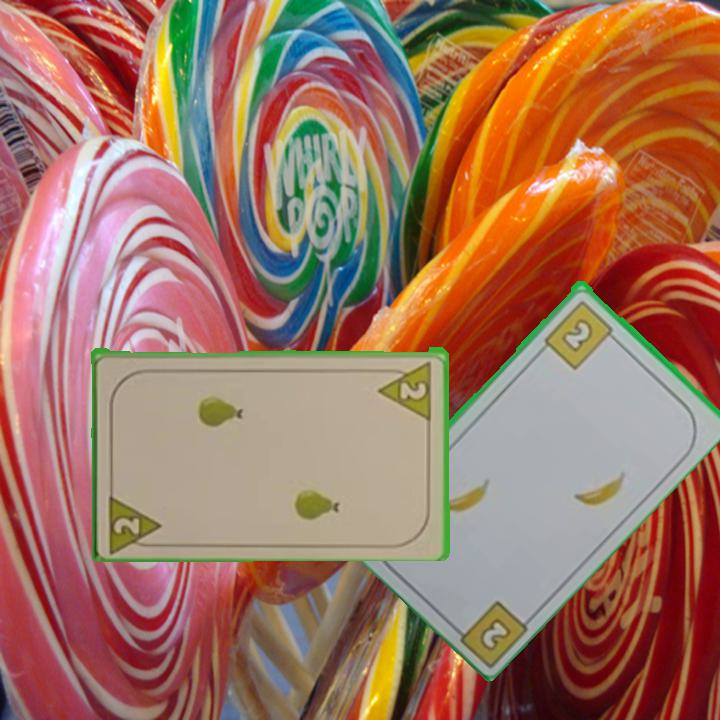2b: (540, 296, 621, 372), (475, 613, 515, 654)
2p: (375, 357, 435, 420), (110, 513, 143, 536)
